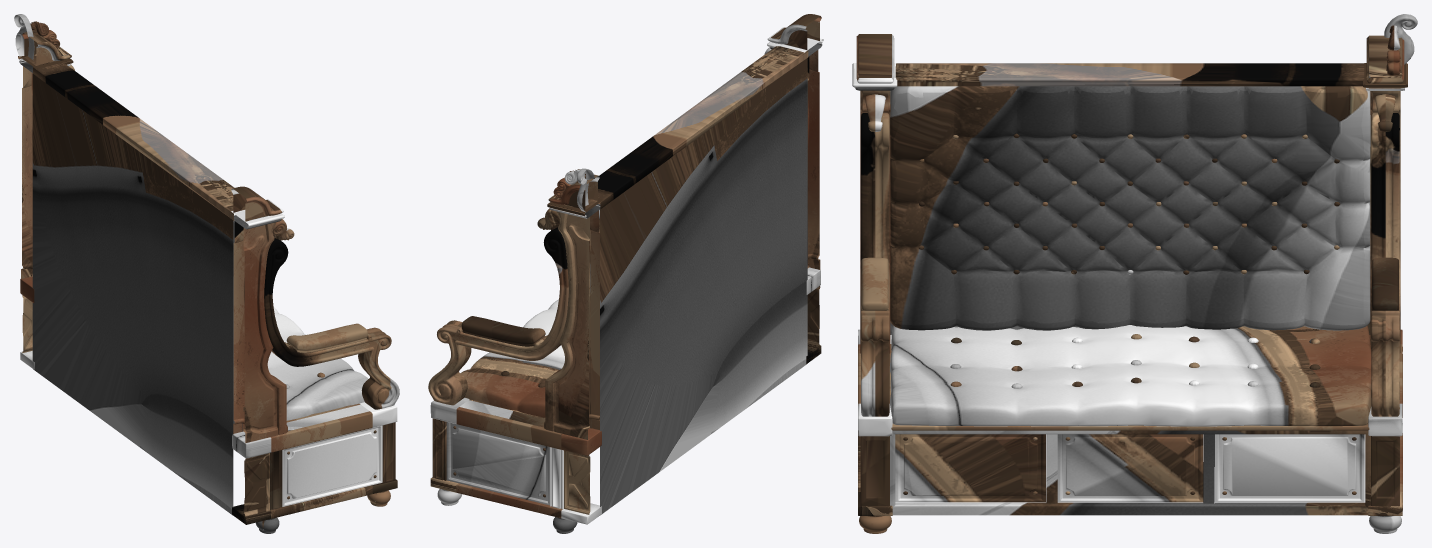
File: short_seat.fbx
The picture shows the model from 3 angles, left to right: view 1: azimuth 30°, elevation 25°; view 2: azimuth 150°, elevation 25°; view 3: azimuth 270°, elevation 25°; orthographic projection. The views are drawn at different scales.
Parts seen in each view (by area): view 1: short_seat; view 2: short_seat; view 3: short_seat.
Part boxes in pixels (<box>): short_seat: <box>14,14,399,533</box>; short_seat: <box>428,14,823,533</box>; short_seat: <box>852,14,1417,533</box>.
Bounding box in the file's own units: 63.38 × 140 × 166.
